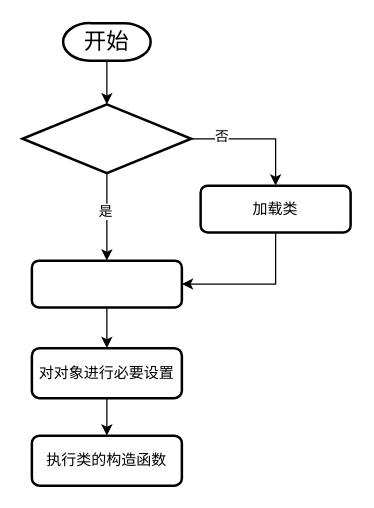
Some shapes in this 374 by 508 pixel diagram are drawn without their labels. The shapes that lost their labels are listed below. From the top down, each one's centre as x and y in pixels, then its label:
the point at 106,138: 检查类 是否被加载
the point at 106,283: 为新生对象分配内存
